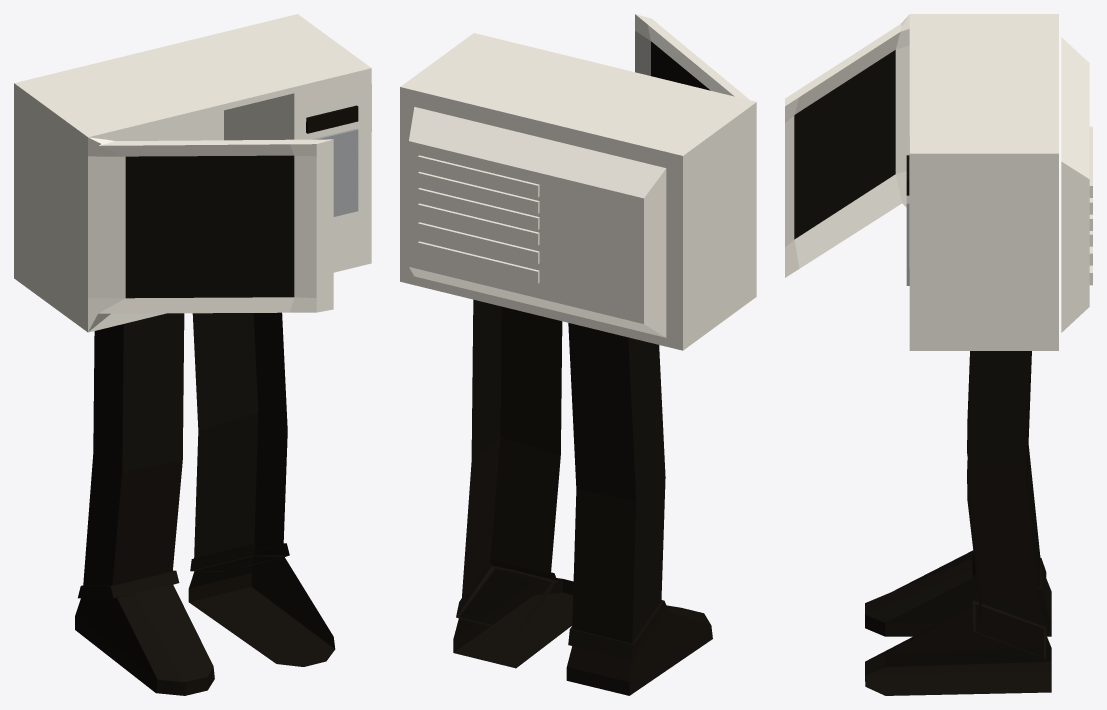
File: MicrowaveMan.fbx
3 views of the same model, side by side, from view 1: azimuth 30°, elevation 25°; view 2: azimuth 150°, elevation 25°; view 3: azimuth 270°, elevation 25° (orthographic).
Visible parts, largest first — view 1: Cube, Cube.003; view 2: Cube, Cube.003; view 3: Cube, Cube.003.
Part boxes in pixels (<box>): Cube: <box>14,14,371,332</box>; Cube.003: <box>75,312,335,695</box>; Cube: <box>400,14,756,350</box>; Cube.003: <box>453,299,712,695</box>; Cube: <box>785,14,1092,350</box>; Cube.003: <box>865,351,1051,695</box>.
Bounding box in the file's own units: 471 × 890 × 439.
